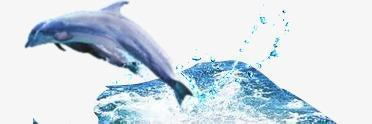fish: (23, 1, 195, 101)
